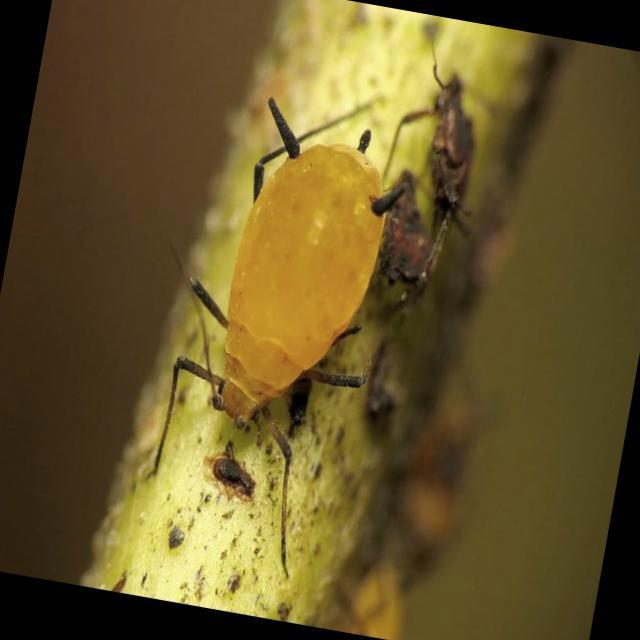aphid: (138, 70, 420, 551)
